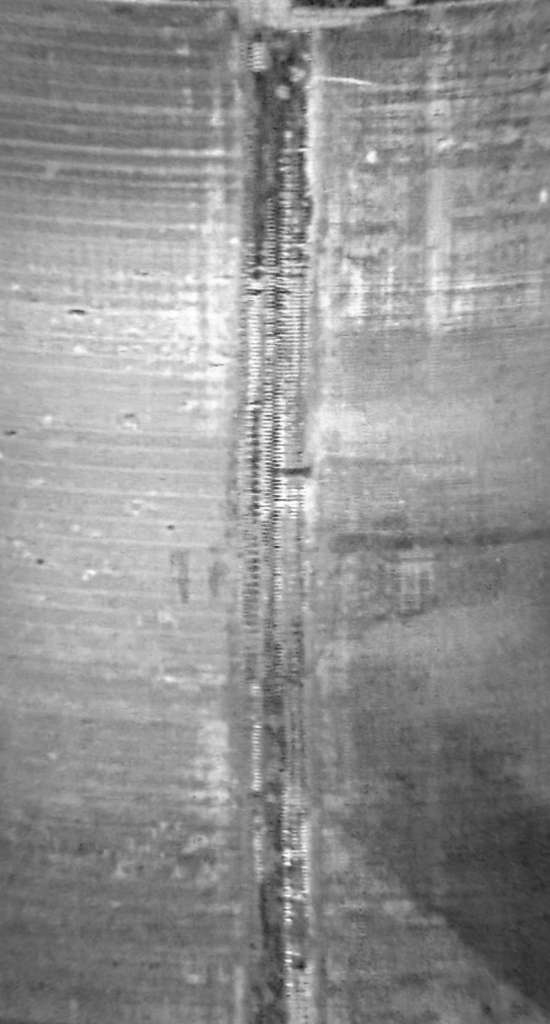splice: (238, 2, 341, 1024)
